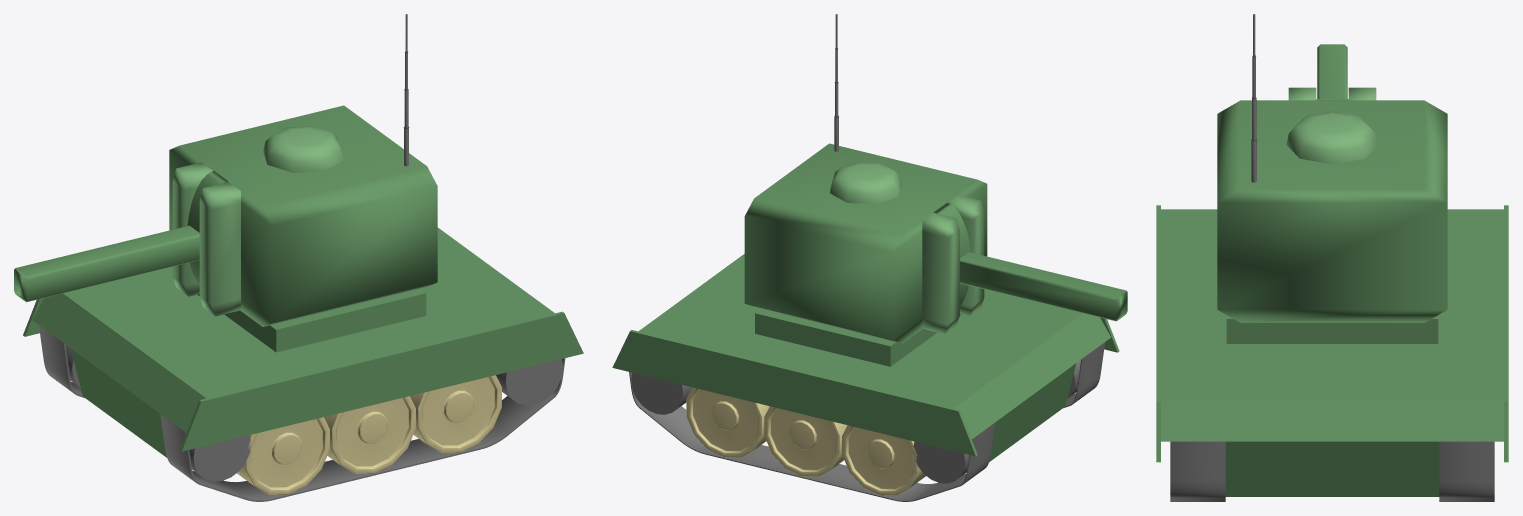
Rendered from Tanks and Armored Vehicle.glb.
The picture shows the model from 3 angles, left to right: view 1: azimuth 30°, elevation 25°; view 2: azimuth 150°, elevation 25°; view 3: azimuth 270°, elevation 25°; orthographic projection. The views are drawn at different scales.
Visible parts, largest first — view 1: Cube (×3), Cube Legacy (×5), Cylindrical Lathe (×4), Tracks Spline 2D (×2), Cylinder (×3); view 2: Cube (×3), Cube Legacy (×5), Cylindrical Lathe (×4), Tracks Spline 2D (×2), Cylinder (×3); view 3: Cube (×4), Cube Legacy (×5), Tracks Spline 2D (×2), Cylindrical Lathe (×2).
Part boxes in pixels (x1,y1,x2,y2): Cube (×3): [32, 227, 583, 457]; Cube Legacy (×5): [14, 105, 437, 352]; Cylindrical Lathe (×4): [237, 126, 501, 494]; Tracks Spline 2D (×2): [39, 325, 565, 501]; Cylinder (×3): [187, 171, 562, 481]; Cube (×3): [612, 254, 1110, 461]; Cube Legacy (×5): [744, 143, 1127, 366]; Cylindrical Lathe (×4): [686, 162, 925, 495]; Tracks Spline 2D (×2): [629, 342, 1105, 501]; Cylinder (×3): [631, 202, 970, 483]; Cube (×4): [1156, 205, 1508, 496]; Cube Legacy (×5): [1217, 44, 1447, 343]; Tracks Spline 2D (×2): [1170, 441, 1494, 501]; Cylindrical Lathe (×2): [1251, 14, 1378, 182].
Bounding box in the file's own units: 6.71 × 5.52 × 3.82.
